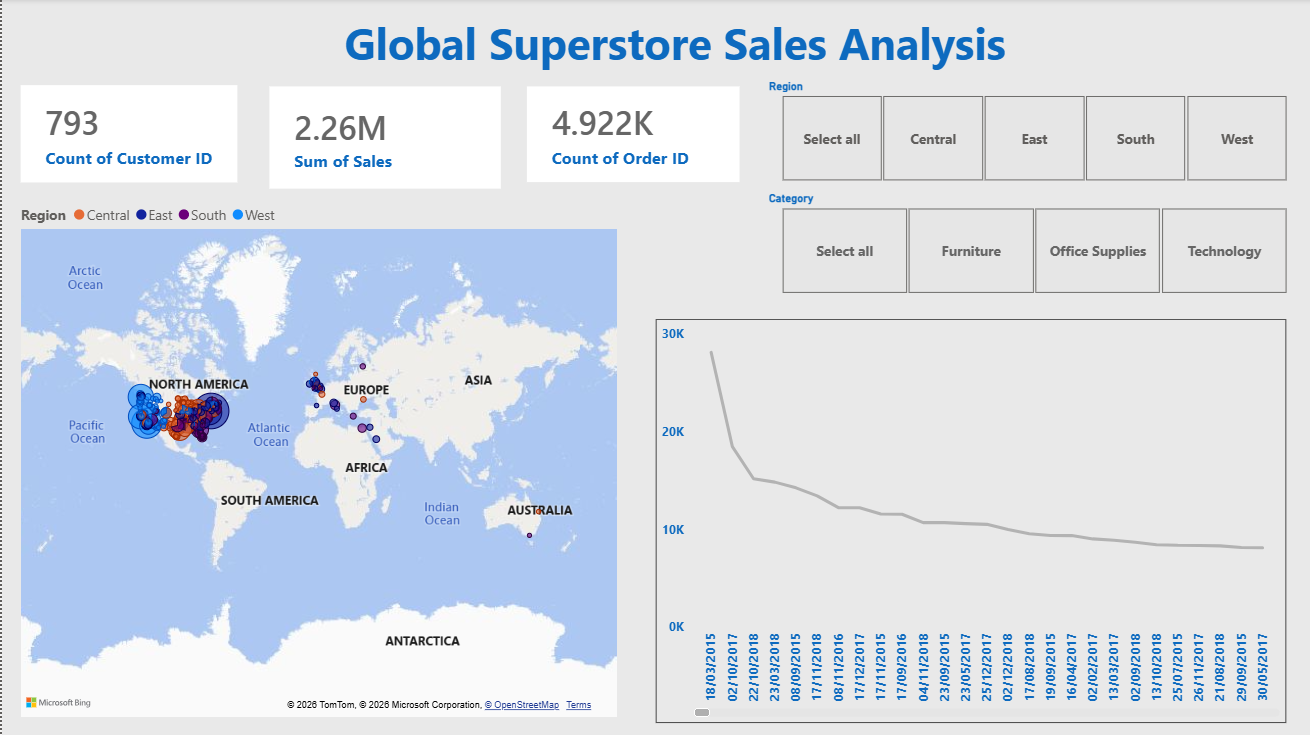

Layout of this report page (visuals, bound fields, positions):
{"tool":"powerbi","page":{"name":"Page 1","canvas":[1280,720],"ordinal":0},"visuals":[{"type":"cardVisual","fields":{"Data":["Count(train.Customer ID)"]},"box":[13.5,79.5,222.6,105.1],"z":0},{"type":"cardVisual","fields":{"Data":["Sum(train.Sales)"]},"box":[257.2,80.2,236.4,110.6],"z":1000},{"type":"map","fields":{"Category":["train.City"],"Series":["train.Region"],"Size":["Sum(train.Sales)"]},"box":[13.8,190.8,593.1,517.1],"z":2000},{"type":"lineChart","fields":{"Y":["Sum(train.Sales)"],"Category":["train.Order Date"]},"box":[640.1,312.5,616.6,395.4],"z":3000},{"type":"cardVisual","fields":{"Data":["Count(train.Order ID)"]},"box":[508.8,80.2,218.4,103.7],"z":4000},{"type":"slicer","fields":{"Values":["train.Region"]},"box":[736.9,73.3,543.4,110.6],"z":5000},{"type":"slicer","fields":{"Values":["train.Category"]},"box":[736.9,183.9,543.4,110.6],"z":6000},{"type":"textbox","box":[278.8,8.6,759.4,72.1],"z":7000}]}

Visuals, with their boxes in screenshot pixels (x1, y1, x2, y2), scaled from the page's 1280x720 canvas onto the 1310x735 screenshot:
cardVisual - Count(train.Customer ID): (x1=14, y1=81, x2=242, y2=188)
cardVisual - Sum(train.Sales): (x1=263, y1=82, x2=505, y2=195)
map - train.City x train.Region: (x1=14, y1=195, x2=621, y2=723)
lineChart - Sum(train.Sales) x train.Order Date: (x1=655, y1=319, x2=1286, y2=723)
cardVisual - Count(train.Order ID): (x1=521, y1=82, x2=744, y2=188)
slicer - train.Region: (x1=754, y1=75, x2=1309, y2=188)
slicer - train.Category: (x1=754, y1=188, x2=1309, y2=301)
textbox: (x1=285, y1=9, x2=1063, y2=82)
